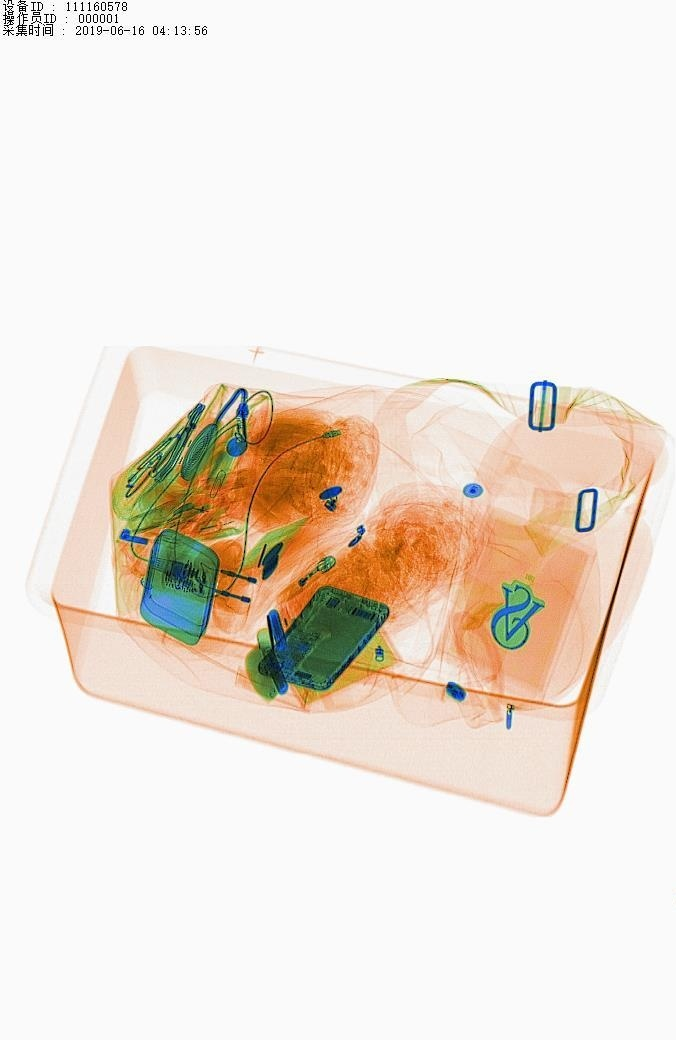NonmetallicFire: (263, 542, 360, 618)
